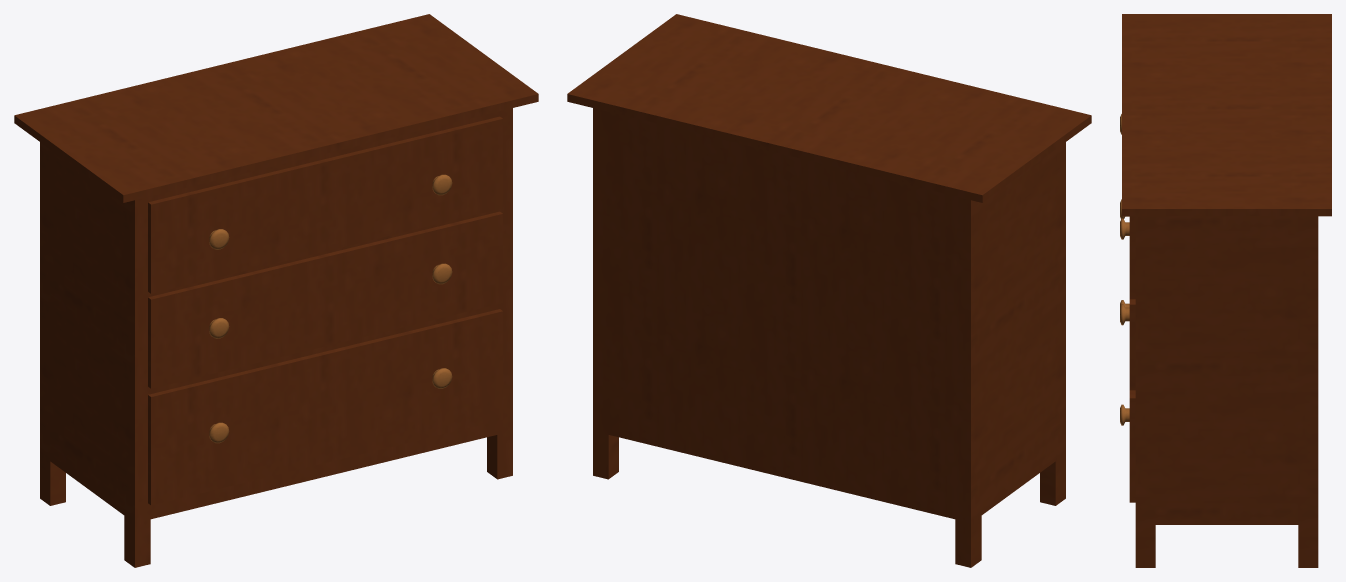
File: Drawer11.fbx
3 renders of one model, left to right at view 1: azimuth 30°, elevation 25°; view 2: azimuth 150°, elevation 25°; view 3: azimuth 270°, elevation 25°, orthographic. The views are drawn at different scales.
Parts seen in each view (by area): view 1: Drawer11_Body, Drawer11_3, Drawer11_1, Drawer11_2; view 2: Drawer11_Body; view 3: Drawer11_Body, Drawer11_3, Drawer11_2, Drawer11_1.
Part boxes in pixels (x1=…): Drawer11_Body: x1=14, y1=14, x2=538, y2=567; Drawer11_3: x1=148, y1=309, x2=502, y2=505; Drawer11_1: x1=148, y1=116, x2=502, y2=293; Drawer11_2: x1=148, y1=211, x2=502, y2=388; Drawer11_Body: x1=567, y1=14, x2=1091, y2=567; Drawer11_Body: x1=1122, y1=14, x2=1331, y2=567; Drawer11_3: x1=1120, y1=300, x2=1135, y2=502; Drawer11_2: x1=1120, y1=199, x2=1135, y2=390; Drawer11_1: x1=1120, y1=114, x2=1135, y2=299.
Bounding box in the file's own units: 95.73 × 84.25 × 44.01.
